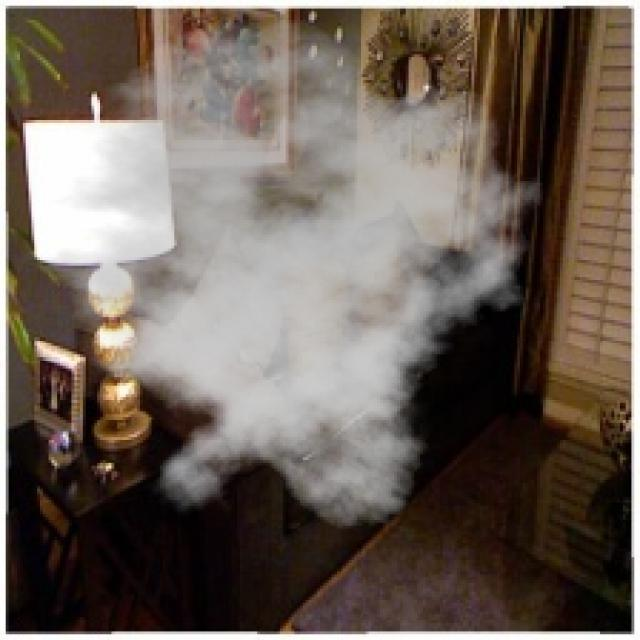Smoke: (11, 17, 558, 532)
